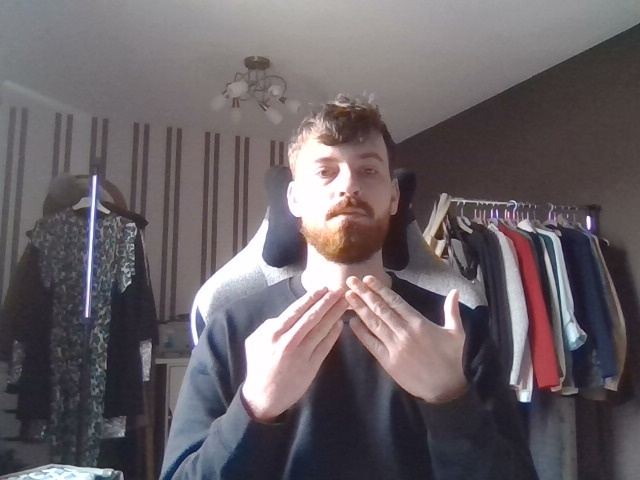Thanks: (239, 253, 473, 415)
